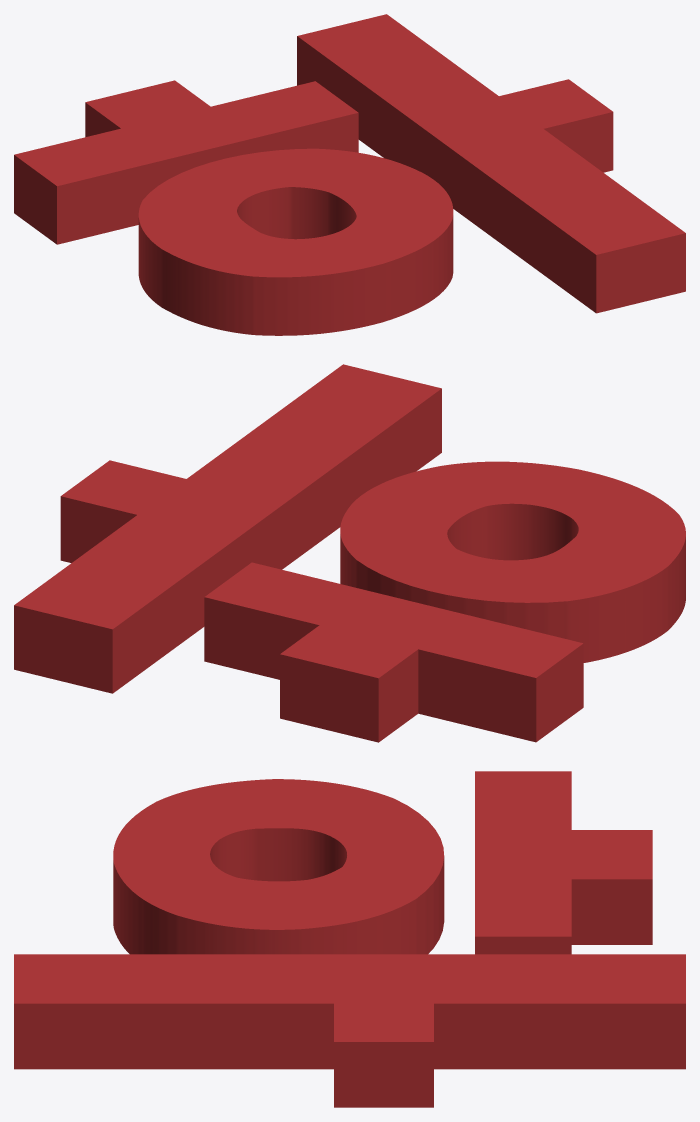
3 renders of one model, top to bottom at view 1: azimuth 30°, elevation 25°; view 2: azimuth 150°, elevation 25°; view 3: azimuth 270°, elevation 25°, orthographic. The views are drawn at different scales.
Parts seen in each view (by area): view 1: Curve, Curve.001, Curve.002; view 2: Curve, Curve.001, Curve.002; view 3: Curve, Curve.001, Curve.002.
Boxes of the visible parts, x1,y1,x2,y2 form: Curve: [297, 14, 685, 313]; Curve.001: [138, 148, 453, 335]; Curve.002: [14, 80, 358, 244]; Curve: [14, 364, 441, 693]; Curve.001: [340, 461, 685, 662]; Curve.002: [204, 562, 583, 742]; Curve: [14, 954, 685, 1107]; Curve.001: [113, 779, 444, 954]; Curve.002: [475, 771, 652, 954].
Bounding box in the file's own units: 1148 × 130 × 1205.
